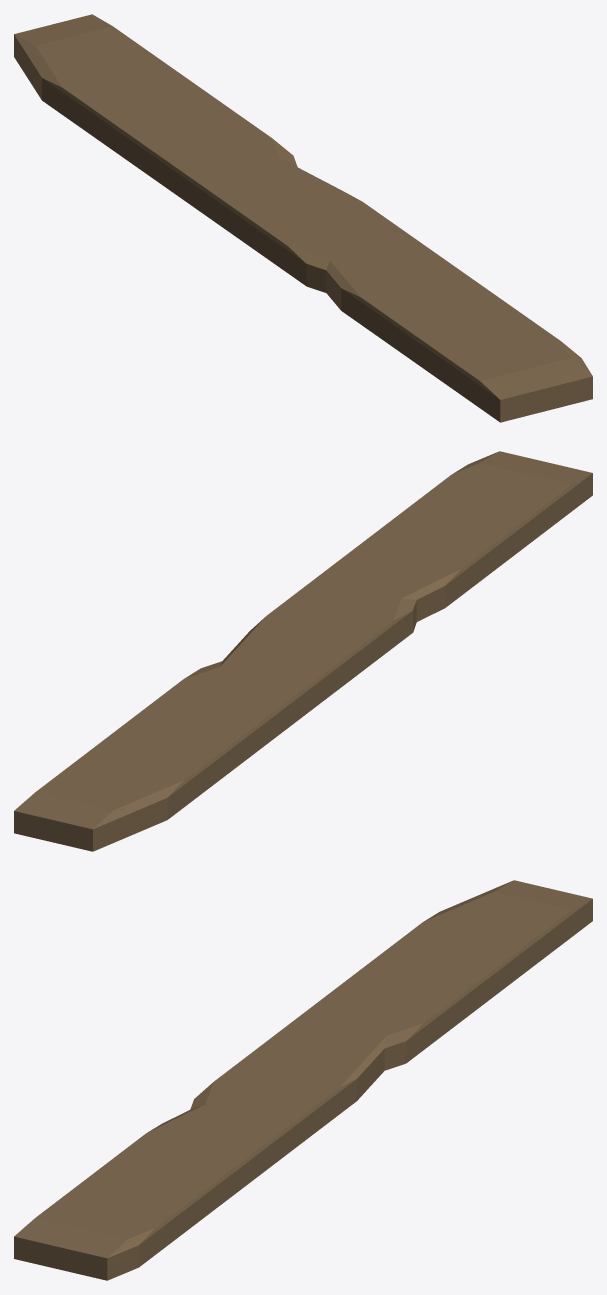
File: Plank1.fbx
3 renders of one model, top to bottom at view 1: azimuth 30°, elevation 25°; view 2: azimuth 150°, elevation 25°; view 3: azimuth 330°, elevation 25°, orthographic.
Visible parts, largest first — view 1: Plane.074; view 2: Plane.074; view 3: Plane.074.
Boxes of the visible parts, x1,y1,x2,y2 form: Plane.074: (14, 14, 592, 422); Plane.074: (14, 451, 592, 851); Plane.074: (14, 880, 592, 1280).
Bounding box in the file's own units: 112 × 23.78 × 817.
